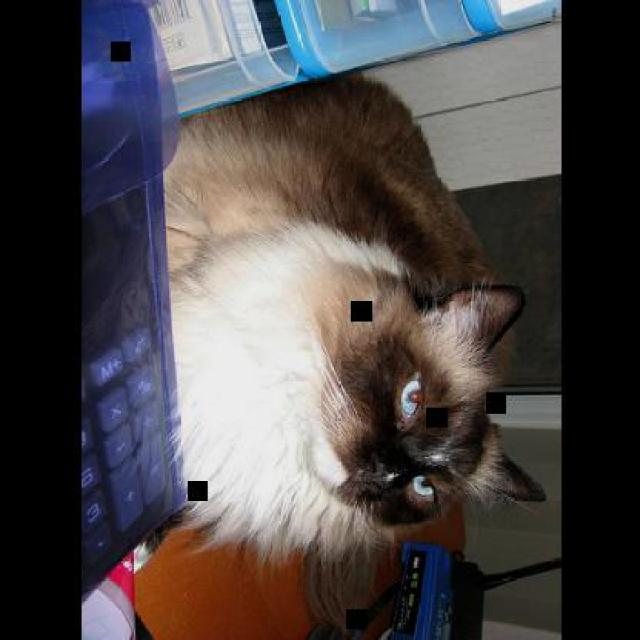unauthorized: (134, 71, 546, 632)
